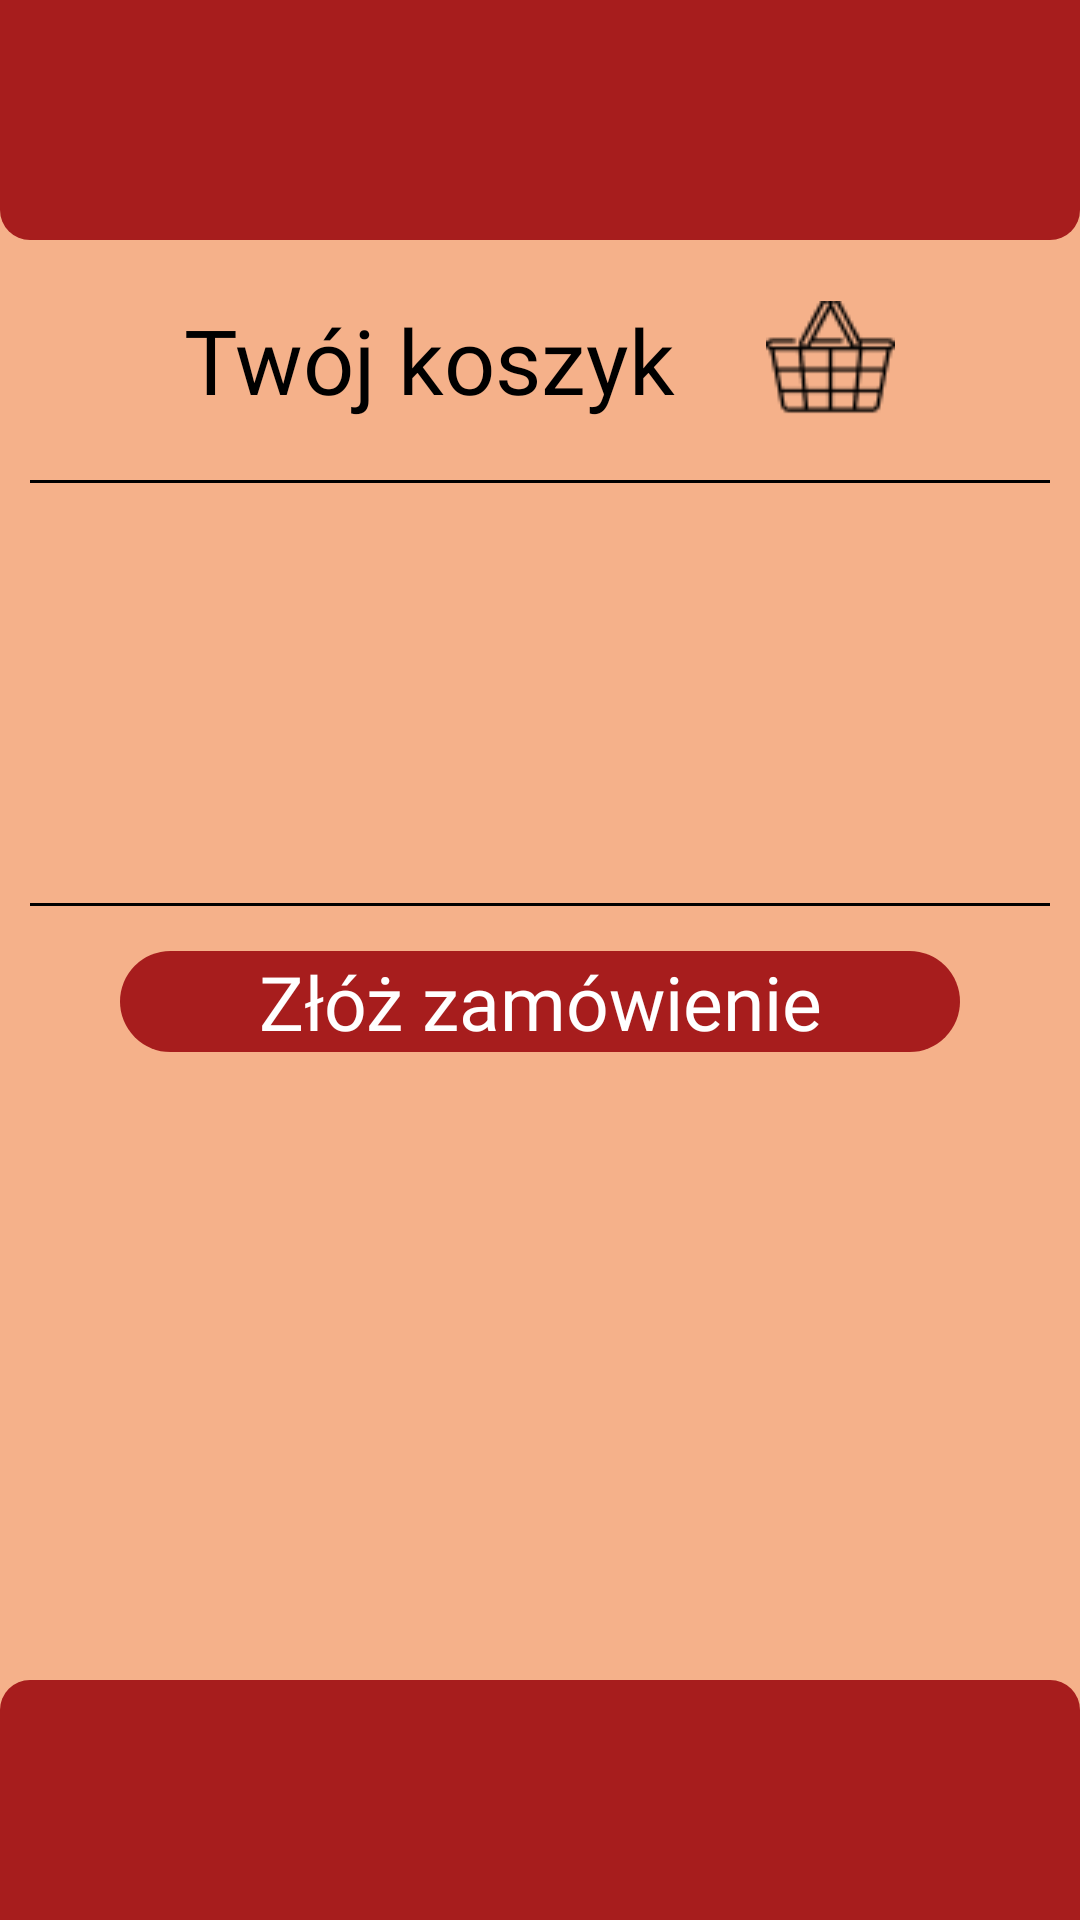

Icons on this 1080 x 1920 Android screen, each with its box as (x1, y1, x2, y2):
bucket photo: (766, 301, 895, 413)
